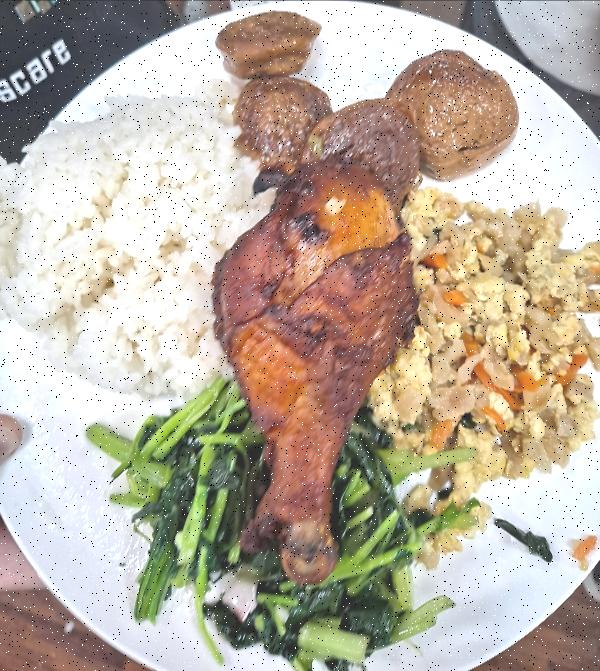honey grilled chicken leg: (202, 155, 412, 585)
plate: (10, 1, 599, 671)
side dish: (137, 401, 439, 666), (402, 183, 598, 494), (214, 7, 520, 195)
white rice: (23, 89, 241, 394)
